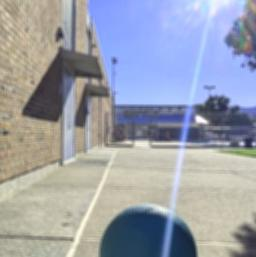algae: (95, 201, 199, 257)
